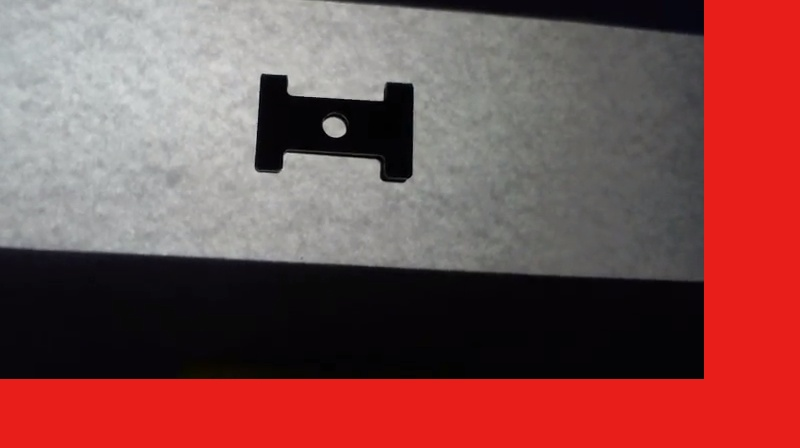O002: (252, 69, 421, 188)
